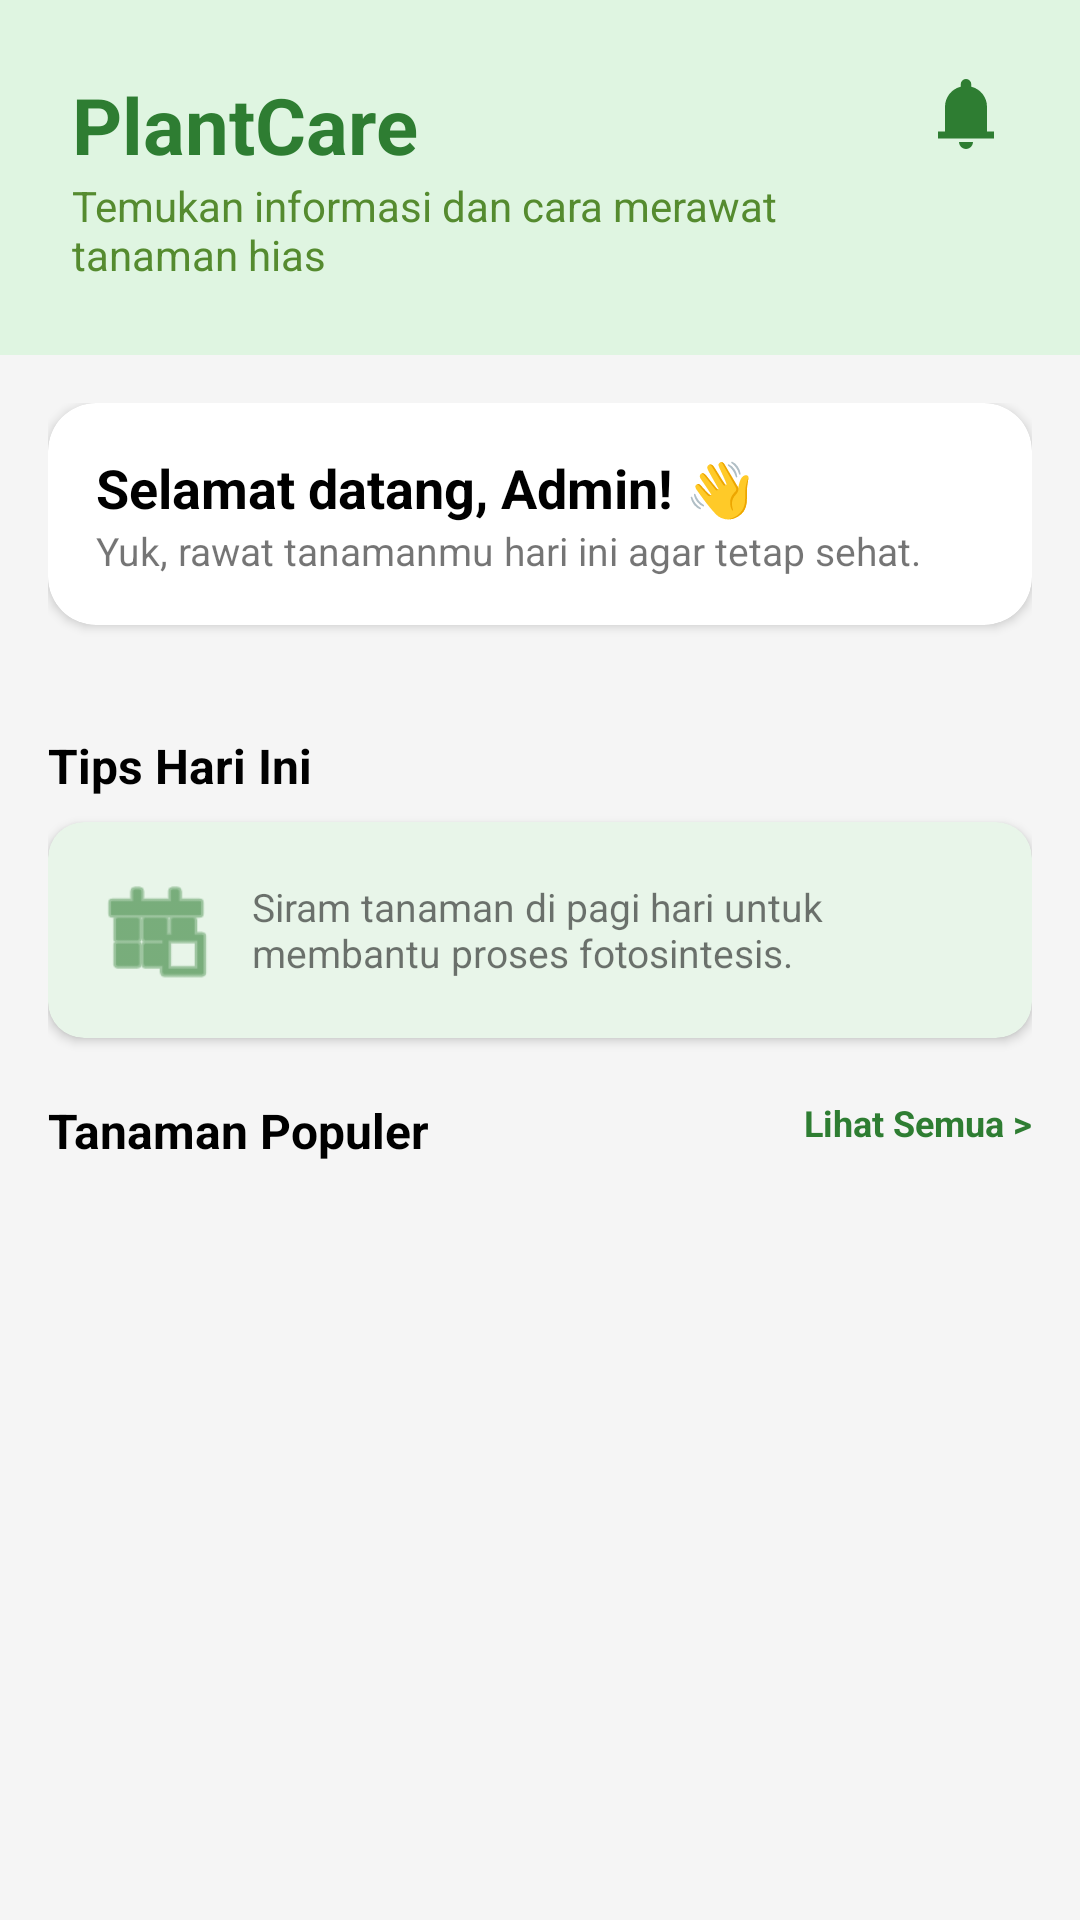

Locate icon controls on the screen. Image size 1080x1920, boxes as BBox(x1, y1, x2, y2).
notification: BBox(938, 79, 994, 149)
today: BBox(108, 886, 206, 977)
